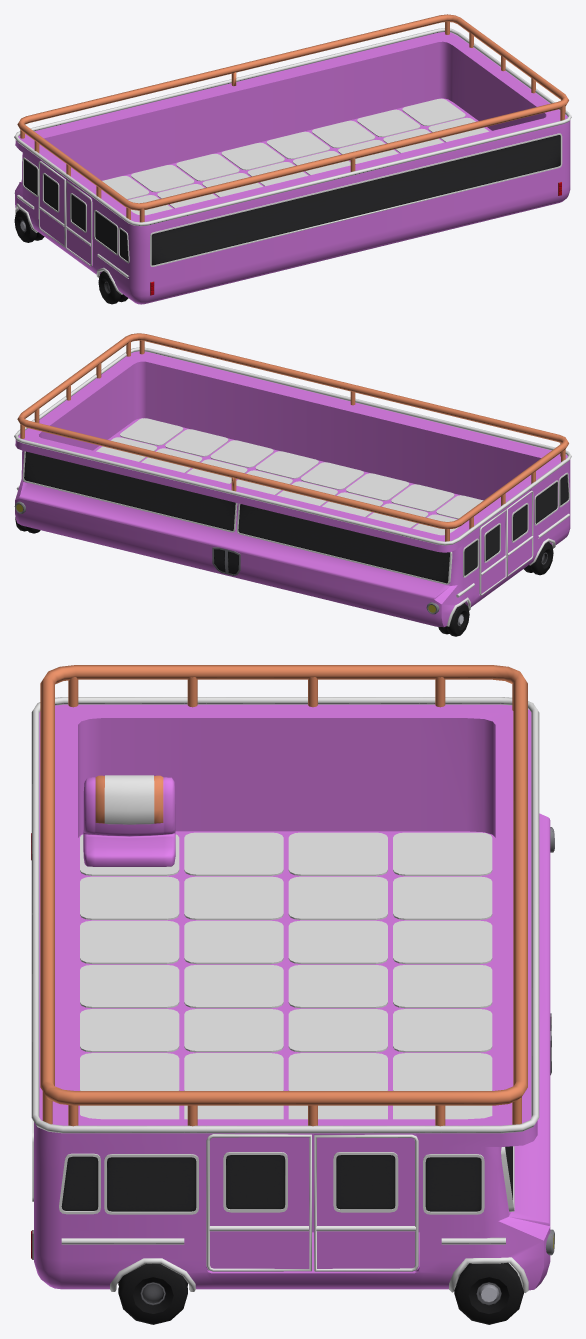
File: Bus Classroom.fbx
3 views of the same model, one above another, from view 1: azimuth 30°, elevation 25°; view 2: azimuth 150°, elevation 25°; view 3: azimuth 270°, elevation 25° (orthographic). The views are drawn at different scales.
Visible parts, largest first — view 1: Bus Classroom, Grid Base, Door right.001, Door Left.001, Wheels 4, Wheels 3; view 2: Bus Classroom, Grid Base, Door Left.001, Door right.001, Wheels 4, Wheels 3; view 3: Bus Classroom, Grid Base, Door Left, Door right, Armchair, Wheels 1, Wheels 2.
Boxes of the visible parts, left/top/right/bottom form: Bus Classroom: left=14, top=14, right=571, bottom=304; Grid Base: left=102, top=98, right=488, bottom=215; Door right.001: left=65, top=179, right=92, bottom=266; Door Left.001: left=38, top=161, right=65, bottom=247; Wheels 4: left=14, top=209, right=44, bottom=242; Wheels 3: left=98, top=271, right=128, bottom=304; Bus Classroom: left=14, top=333, right=571, bottom=627; Grid Base: left=96, top=418, right=483, bottom=535; Door Left.001: left=479, top=509, right=506, bottom=595; Door right.001: left=506, top=490, right=533, bottom=576; Wheels 4: left=438, top=603, right=469, bottom=636; Wheels 3: left=524, top=541, right=553, bottom=575; Bus Classroom: left=31, top=665, right=554, bottom=1292; Grid Base: left=80, top=832, right=492, bottom=1119; Door Left: left=206, top=1134, right=311, bottom=1271; Door right: left=314, top=1134, right=418, bottom=1271; Armchair: left=83, top=775, right=175, bottom=866; Wheels 1: left=454, top=1262, right=523, bottom=1324; Wheels 2: left=118, top=1264, right=187, bottom=1324.
Bounding box in the file's own units: 14.66 × 3.69 × 7.51.
